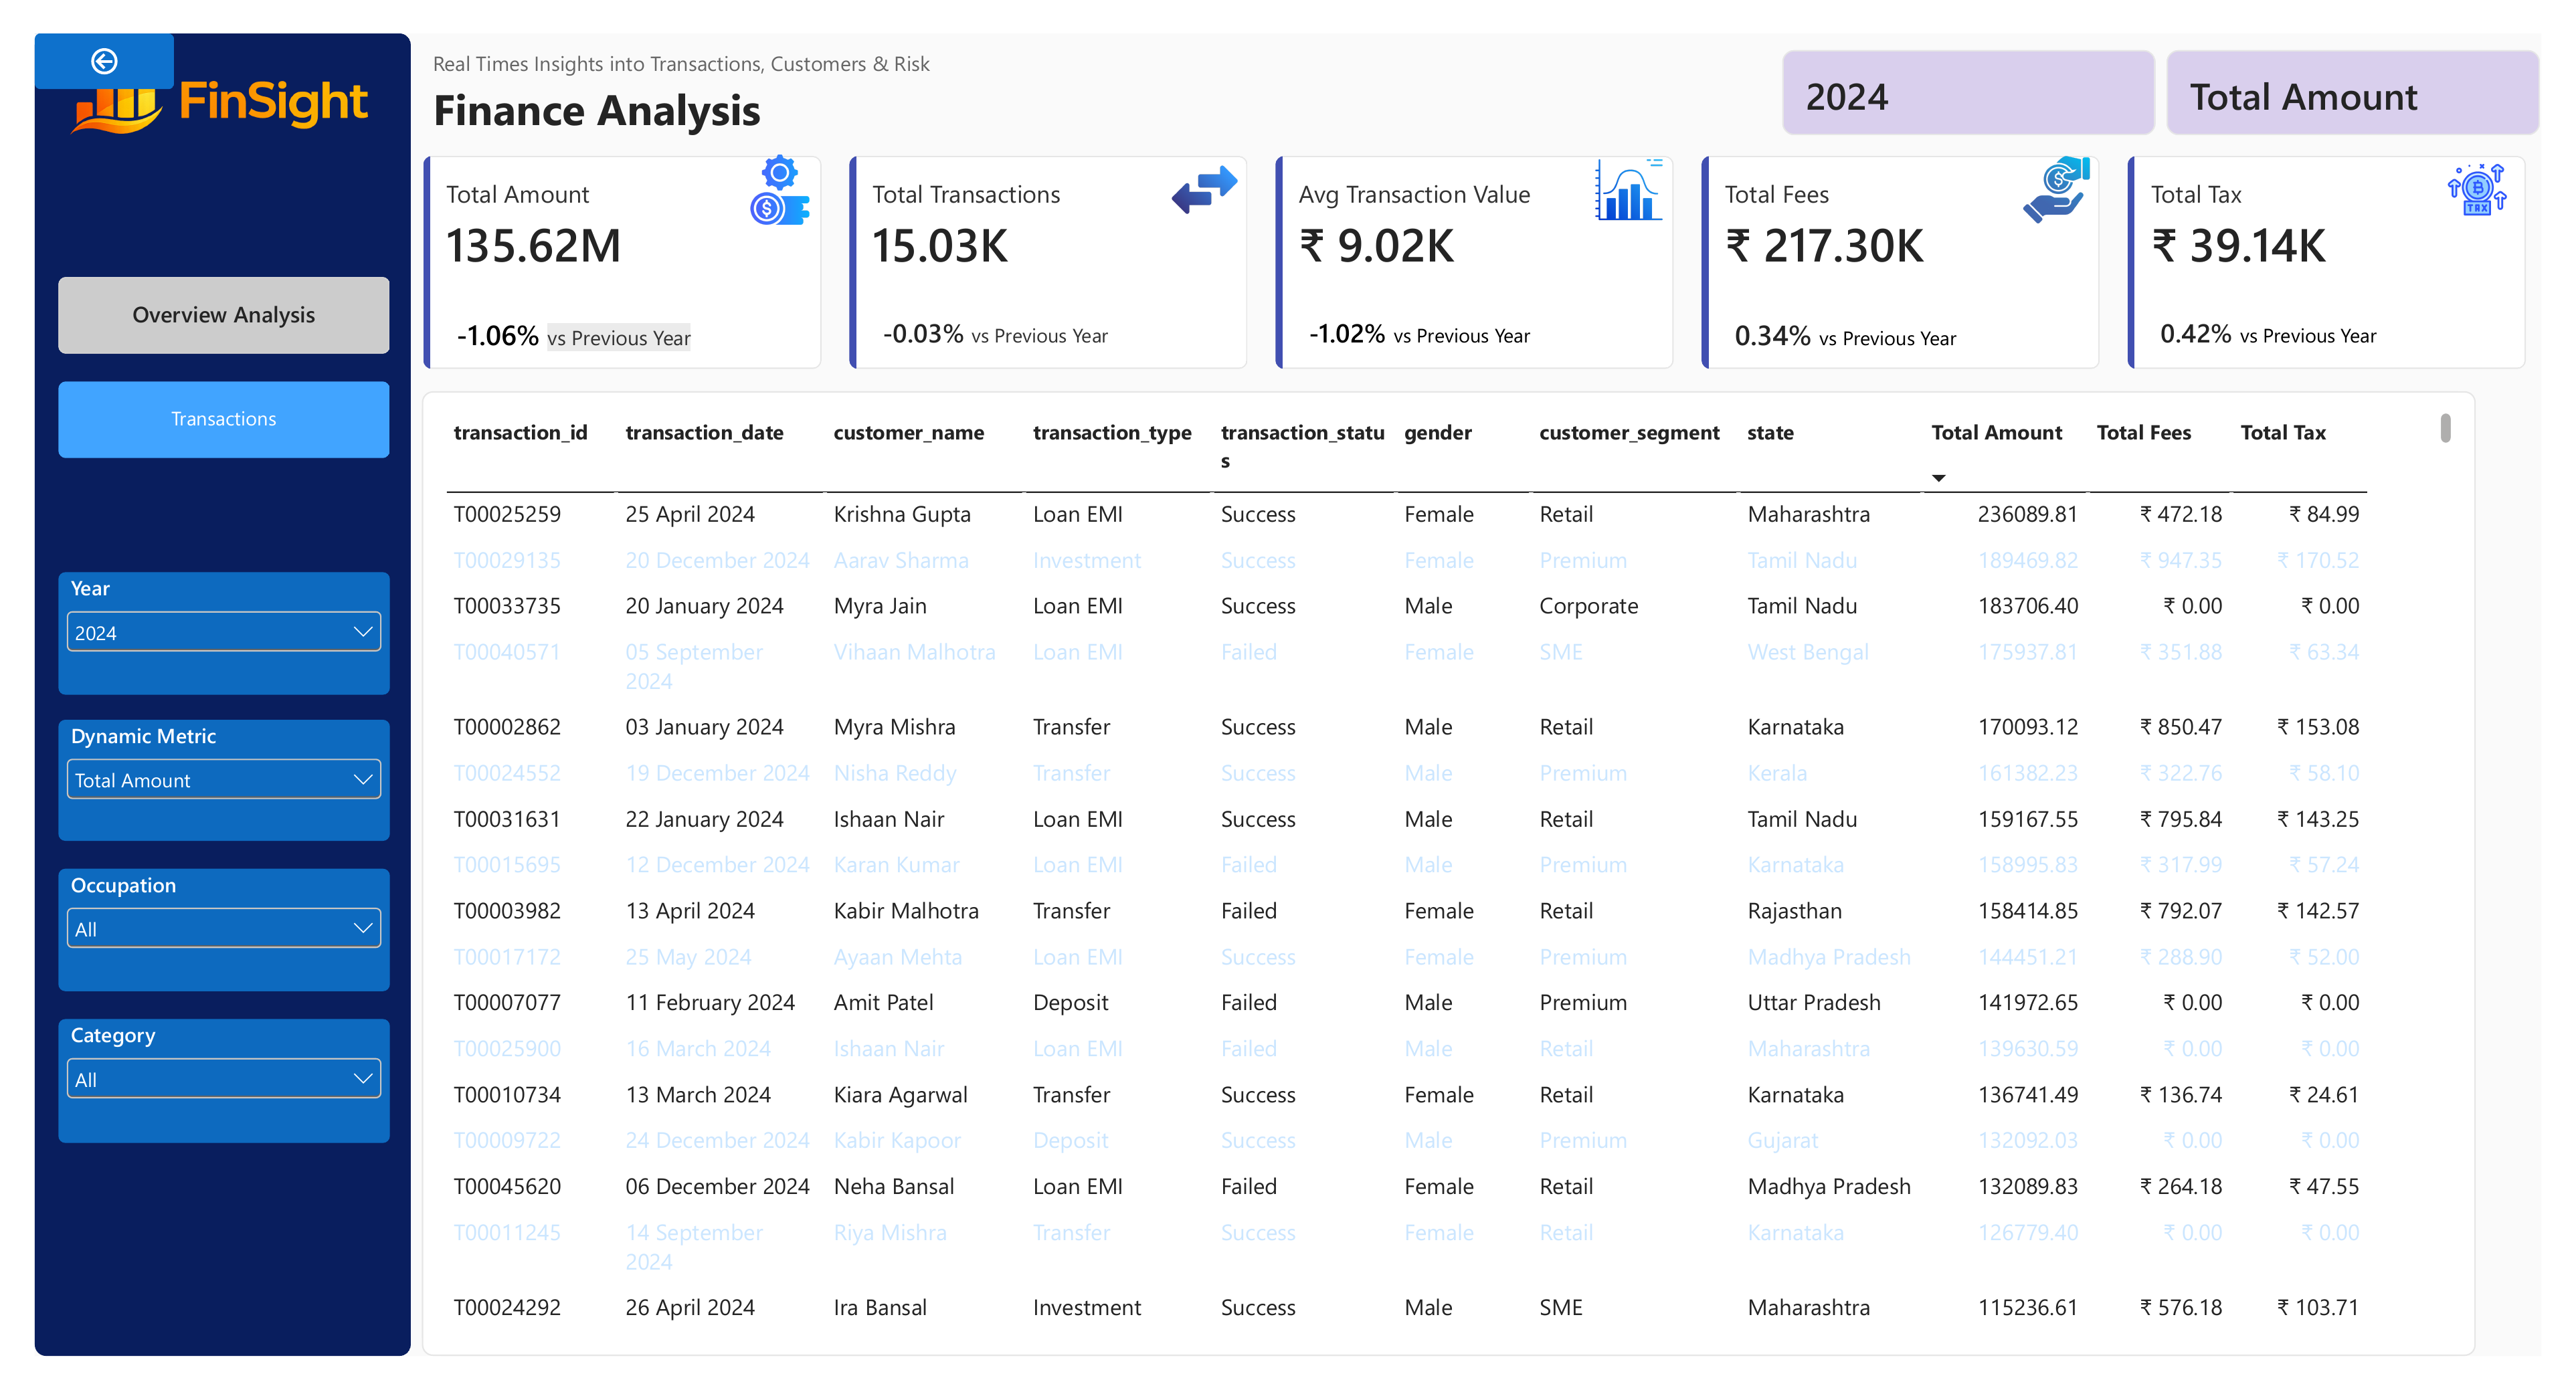

The dashboard page shown, as its layout file describes it:
{"tool":"powerbi","page":{"name":"Transactions","canvas":[1800,950],"ordinal":1},"visuals":[{"type":"shape","box":[0,0,270,950],"z":0},{"type":"image","box":[0,0,270,86.7],"z":1000},{"type":"cardVisual","fields":{"Data":["finance_transactions.Dashboard Title"]},"box":[270,0,426.7,86.7],"z":2000},{"type":"cardVisual","fields":{"Data":["finance_transactions.Total Amount","finance_transactions.Total Transactions","finance_transactions.Avg Transaction Value","finance_transactions.Total Fees","finance_transactions.Total Tax"]},"box":[278.3,86.7,1515,155],"z":3000},{"type":"image","box":[510,86.7,50,50],"z":5000},{"type":"image","box":[815,86.7,50,50],"z":6000},{"type":"image","box":[1120,86.7,50,50],"z":7000},{"type":"image","box":[1426.7,86.7,50,50],"z":8000},{"type":"image","box":[1725,86.7,56.7,50],"z":9000},{"type":"cardVisual","fields":{"Data":["finance_transactions.Selected Year","finance_transactions.Selected Dynamic Measure"]},"box":[1255,11.7,545,61.7],"z":13000},{"type":"shape","box":[278.3,256.7,1475,693.3],"z":13001},{"type":"tableEx","fields":{"Values":["finance_transactions.transaction_id","finance_transactions.transaction_date","customers.customer_name","finance_transactions.transaction_type","finance_transactions.transaction_status","customers.gender","customers.customer_segment","customers.state","finance_transactions.Total Amount","finance_transactions.Total Fees","finance_transactions.Total Tax"]},"box":[278.3,256.7,1475,693.3],"z":13002},{"type":"actionButton","box":[0,0,100,40],"z":13003},{"type":"slicer","fields":{"Values":["Calendar Table.Year"]},"box":[16.7,386.7,238.3,88.3],"z":13004},{"type":"slicer","fields":{"Values":["Dynamic Metric.Dynamic Metric"]},"box":[16.7,493.3,238.3,86.7],"z":13005},{"type":"slicer","fields":{"Values":["customers.occupation"]},"box":[16.7,600,238.3,88.3],"z":13006},{"type":"slicer","fields":{"Values":["finance_transactions.merchant_category"]},"box":[16.7,708.3,238.3,88.3],"z":13007},{"type":"pageNavigator","box":[16.7,175,238.3,131.7],"z":13008}]}

Visuals, with their boxes on the page's 1800x950 design canvas (x1, y1, x2, y2). These are canvas units, not pixel positions in the 2576x1390 screenshot, which may show the page scaled, cropped or inside an application window:
shape: l=0, t=0, r=270, b=950
image: l=0, t=0, r=270, b=87
cardVisual - finance_transactions.Dashboard Title: l=270, t=0, r=697, b=87
cardVisual - finance_transactions.Total Amount x finance_transactions.Total Transactions: l=278, t=87, r=1793, b=242
image: l=510, t=87, r=560, b=137
image: l=815, t=87, r=865, b=137
image: l=1120, t=87, r=1170, b=137
image: l=1427, t=87, r=1477, b=137
image: l=1725, t=87, r=1782, b=137
cardVisual - finance_transactions.Selected Year x finance_transactions.Selected Dynamic Measure: l=1255, t=12, r=1800, b=73
shape: l=278, t=257, r=1753, b=950
tableEx - finance_transactions.transaction_id x finance_transactions.transaction_date: l=278, t=257, r=1753, b=950
actionButton: l=0, t=0, r=100, b=40
slicer - Calendar Table.Year: l=17, t=387, r=255, b=475
slicer - Dynamic Metric.Dynamic Metric: l=17, t=493, r=255, b=580
slicer - customers.occupation: l=17, t=600, r=255, b=688
slicer - finance_transactions.merchant_category: l=17, t=708, r=255, b=797
pageNavigator: l=17, t=175, r=255, b=307
